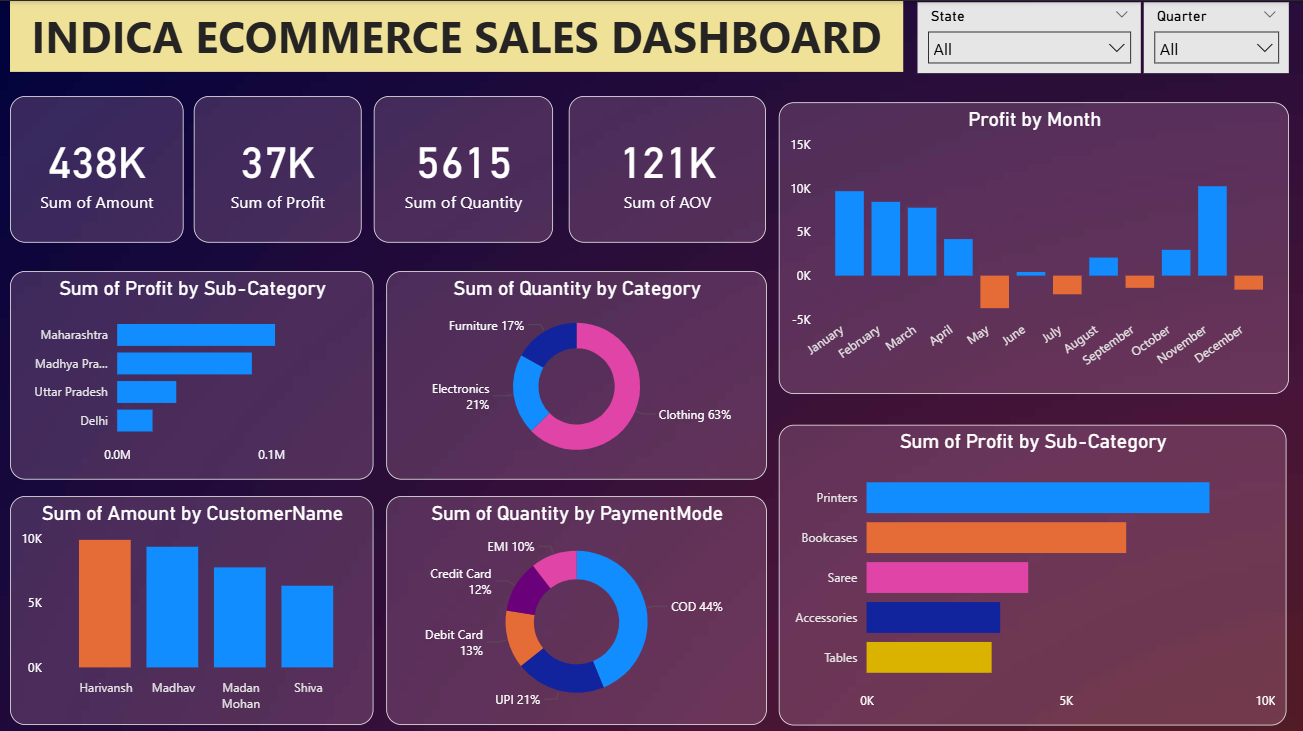

This screenshot's page, from the dashboard's own definition file:
{"tool":"powerbi","page":{"name":"Page 1","canvas":[1280,720],"ordinal":0},"visuals":[{"type":"textbox","box":[9.6,0,876.8,70],"z":0},{"type":"columnChart","title":"Profit by Month","fields":{"Y":["Sum(Details.Profit)"],"Category":["Orders.Order Date.Variation.Date Hierarchy.Month"]},"box":[764.3,98.8,500.9,286.8],"z":1000},{"type":"barChart","title":"Sum of Profit by Sub-Category","fields":{"Category":["Details.Sub-Category"],"Y":["Sum(Details.Profit)"]},"box":[764.3,415.8,498.1,295],"z":2000},{"type":"donutChart","fields":{"Category":["Details.Category"],"Y":["Sum(Details.Quantity)"]},"box":[378.7,264.8,373.2,204.5],"z":3000},{"type":"donutChart","fields":{"Category":["Details.PaymentMode"],"Y":["Sum(Details.Quantity)"]},"box":[378.7,485.8,373.2,225],"z":4000},{"type":"card","fields":{"Values":["Sum(Details.Amount)"]},"box":[9.6,93.3,170.2,144.1],"z":5000},{"type":"card","fields":{"Values":["Sum(Details.Quantity)"]},"box":[366.4,93.3,175.6,144.1],"z":6000},{"type":"card","fields":{"Values":["Sum(Details.Profit)"]},"box":[190.7,93.3,164.7,144.1],"z":7000},{"type":"card","fields":{"Values":["Sum(Details.AOV)"]},"box":[558.5,93.3,193.5,144.1],"z":8000},{"type":"barChart","title":"Sum of Profit by Sub-Category","fields":{"Category":["Orders.State"],"Y":["Sum(Details.Amount)"]},"box":[9.6,264.8,356.8,204.5],"z":9000},{"type":"columnChart","fields":{"Category":["Orders.CustomerName"],"Y":["Sum(Details.Amount)"]},"box":[9.6,485.8,356.8,225],"z":10000},{"type":"slicer","fields":{"Values":["Orders.Order Date.Variation.Date Hierarchy.Quarter"]},"box":[1122.5,1.4,142.7,70],"z":11000},{"type":"slicer","fields":{"Values":["Orders.State"]},"box":[900.2,1.4,219.6,70],"z":12000}]}

Visuals, with their boxes in screenshot pixels (x1, y1, x2, y2), scaled from the page's 1280x720 canvas onto the 1303x731 screenshot:
textbox: <bbox>10, 0, 902, 71</bbox>
"Profit by Month" columnChart: <bbox>778, 100, 1288, 391</bbox>
"Sum of Profit by Sub-Category" barChart: <bbox>778, 422, 1285, 722</bbox>
donutChart - Details.Category x Sum(Details.Quantity): <bbox>386, 269, 765, 476</bbox>
donutChart - Details.PaymentMode x Sum(Details.Quantity): <bbox>386, 493, 765, 722</bbox>
card - Sum(Details.Amount): <bbox>10, 95, 183, 241</bbox>
card - Sum(Details.Quantity): <bbox>373, 95, 552, 241</bbox>
card - Sum(Details.Profit): <bbox>194, 95, 362, 241</bbox>
card - Sum(Details.AOV): <bbox>569, 95, 766, 241</bbox>
"Sum of Profit by Sub-Category" barChart: <bbox>10, 269, 373, 476</bbox>
columnChart - Orders.CustomerName x Sum(Details.Amount): <bbox>10, 493, 373, 722</bbox>
slicer - Orders.Order Date.Variation.Date Hierarchy.Quarter: <bbox>1143, 1, 1288, 72</bbox>
slicer - Orders.State: <bbox>916, 1, 1140, 72</bbox>
